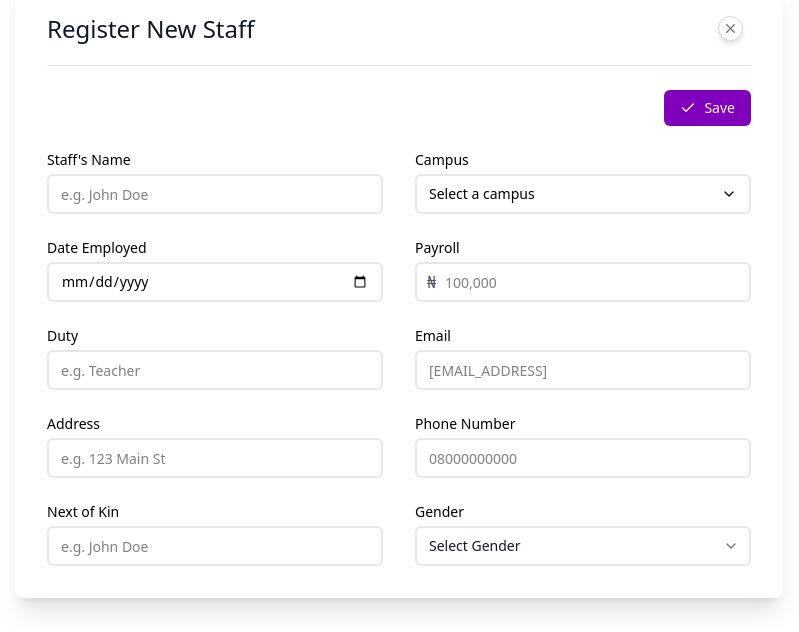
Test: AddStaffFormModal Component › selects a campus from dropdown
The image size is (799, 632).
# use findByText to be safe (handles accessibility issues)
Click the button "Select a campus" at (482, 194), box [415,174,751,214]
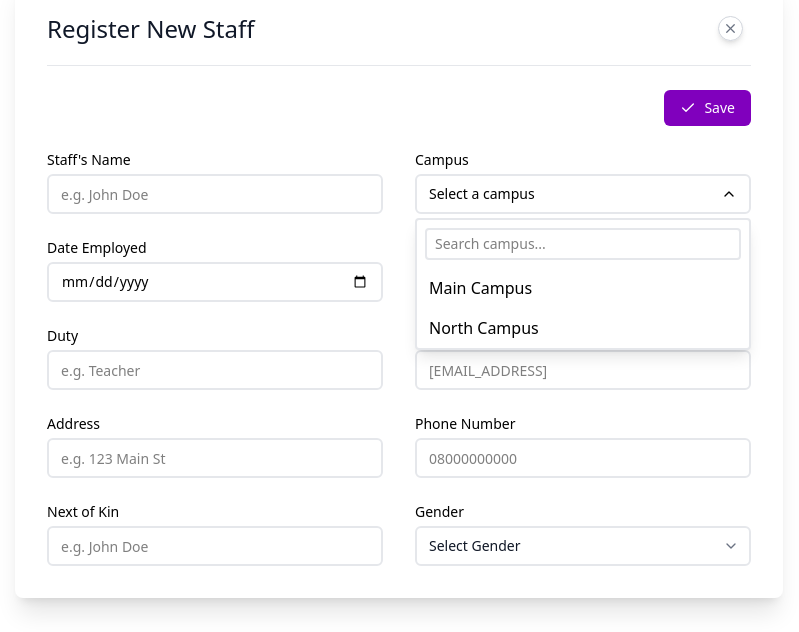
Click the list item "Main Campus" at (481, 288), box [429,277,532,299]
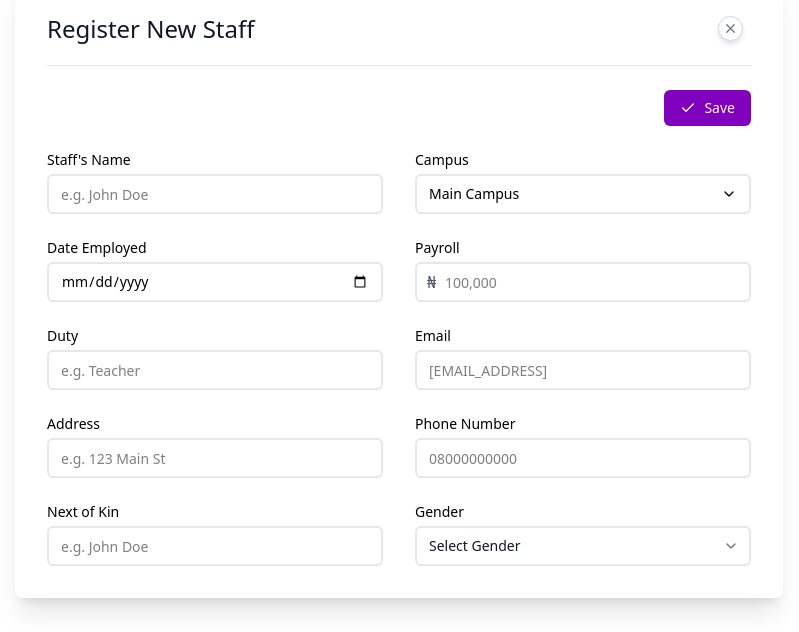
Check: the button "Main Campus" is shown, box [415,174,751,214]
